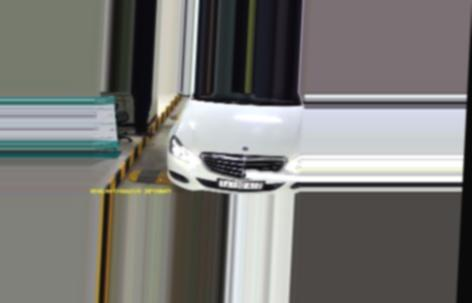License_Plate: (215, 179, 265, 190)
